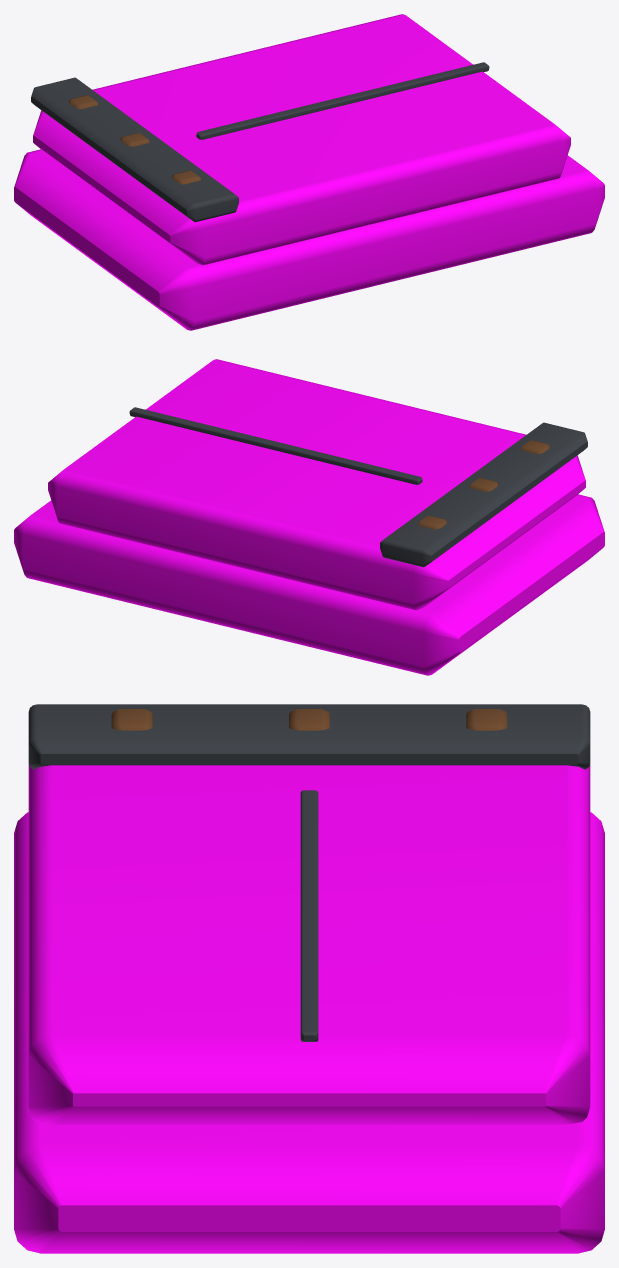
Rendered from objet_pantalon.glb.
3 renders of one model, top to bottom at view 1: azimuth 30°, elevation 25°; view 2: azimuth 150°, elevation 25°; view 3: azimuth 270°, elevation 25°, orthographic. The views are drawn at different scales.
Parts seen in each view (by area): view 1: pantalon_teinte.002, pantalon_teinte_sombre.002, pantalon_sac_cuir.002; view 2: pantalon_teinte.002, pantalon_teinte_sombre.002, pantalon_sac_cuir.002; view 3: pantalon_teinte.002, pantalon_teinte_sombre.002, pantalon_sac_cuir.002.
Boxes of the visible parts, x1,y1,x2,y2 form: pantalon_teinte.002: (14,14,604,330); pantalon_teinte_sombre.002: (31,62,489,222); pantalon_sac_cuir.002: (69,95,200,184); pantalon_teinte.002: (14,359,604,675); pantalon_teinte_sombre.002: (129,407,587,567); pantalon_sac_cuir.002: (418,440,549,529); pantalon_teinte.002: (14,763,604,1253); pantalon_teinte_sombre.002: (28,704,590,1041); pantalon_sac_cuir.002: (111,709,507,730).
Size of the model in its own units: 0.3 by 0.083 by 0.2.
